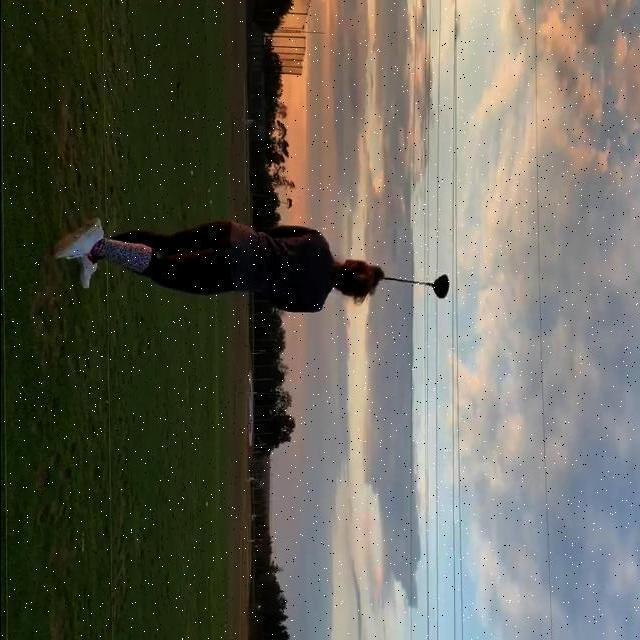golf club-handle: (381, 271, 448, 298)
